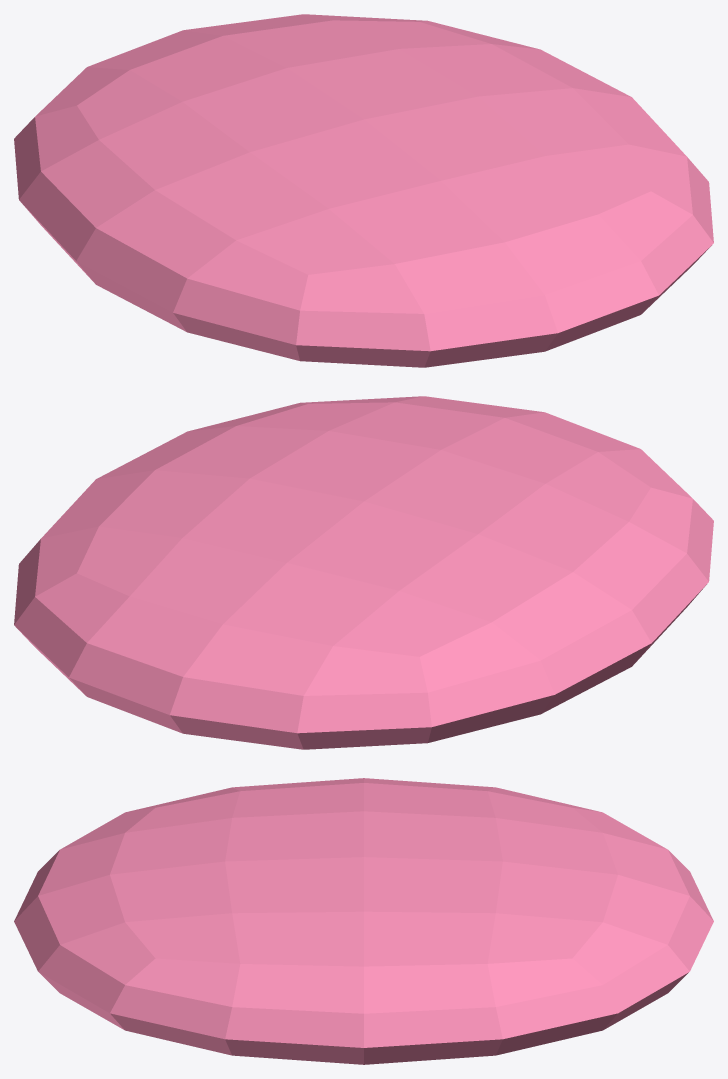
File: Small Pillow.fbx
3 renders of one model, top to bottom at view 1: azimuth 30°, elevation 25°; view 2: azimuth 150°, elevation 25°; view 3: azimuth 270°, elevation 25°, orthographic. The views are drawn at different scales.
Parts seen in each view (by area): view 1: Small Pillow; view 2: Small Pillow; view 3: Small Pillow.
Part boxes in pixels (left/top/right/bottom): Small Pillow: left=14, top=14, right=713, bottom=367; Small Pillow: left=14, top=396, right=713, bottom=749; Small Pillow: left=14, top=778, right=713, bottom=1064.
Size of the model in its own units: 0.1273 by 0.0302 by 0.1489.
